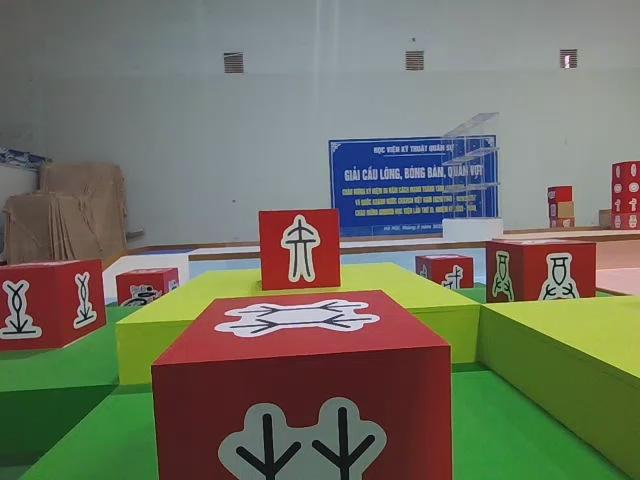R1: (113, 265, 182, 315)
R2 Fake: (257, 205, 342, 292)
R2 Real: (147, 286, 455, 480), (0, 254, 107, 351), (484, 237, 599, 311), (413, 250, 475, 291)
